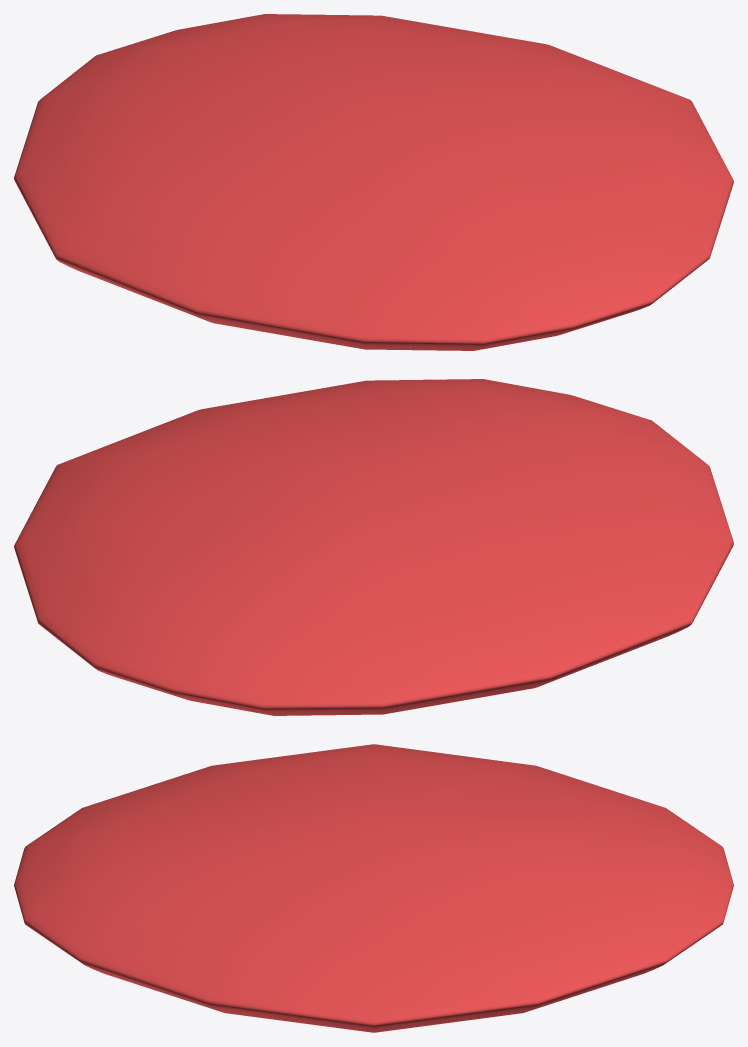
The model's file is Mushroom Shelf.fbx.
3 renders of one model, top to bottom at view 1: azimuth 30°, elevation 25°; view 2: azimuth 150°, elevation 25°; view 3: azimuth 270°, elevation 25°, orthographic. The views are drawn at different scales.
Parts seen in each view (by area): view 1: Mushroom; view 2: Mushroom; view 3: Mushroom.
Part boxes in pixels (x1,y1,x2,y2): Mushroom: (14,14,733,350); Mushroom: (14,379,733,715); Mushroom: (14,744,733,1032).
Size of the model in its own units: 4.9 by 1.44 by 5.36.
